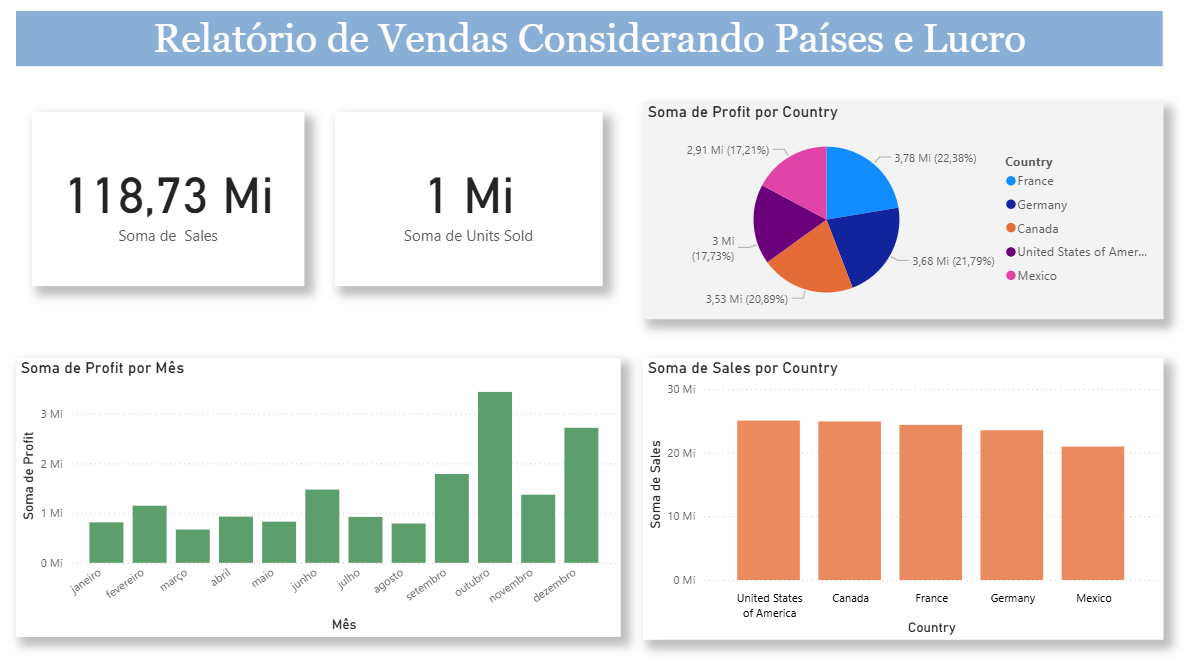

The page's visual inventory and layout, read from the dashboard file:
{"tool":"powerbi","page":{"name":"Página 2","canvas":[1280,720],"ordinal":1},"visuals":[{"type":"card","fields":{"Values":["Sum(financials. Sales)"]},"box":[36.9,128.4,291,185.8],"z":0},{"type":"textbox","box":[20.5,20.5,1225.4,58.7],"z":1000},{"type":"card","fields":{"Values":["Sum(financials.Units Sold)"]},"box":[360.6,128.4,285.5,185.8],"z":2000},{"type":"pieChart","fields":{"Category":["financials.Country"],"Y":["Sum(financials.Profit)"]},"box":[689.9,117.5,556,232.2],"z":3000},{"type":"clusteredColumnChart","fields":{"Category":["financials.Date.Variation.Hierarquia de datas.Ano","financials.Date.Variation.Hierarquia de datas.Mês"],"Y":["Sum(financials.Profit)"]},"box":[20.5,390.7,646.1,297.8],"z":4000},{"type":"clusteredColumnChart","fields":{"Category":["financials.Country"],"Y":["Sum(financials. Sales)"]},"box":[690,391.2,556.2,301.2],"z":5000}]}

Visuals, with their boxes in screenshot pixels (x1, y1, x2, y2), scaled from the page's 1280x720 canvas onto the 1192x663 screenshot:
card - Sum(financials. Sales): [left=34, top=118, right=305, bottom=289]
textbox: [left=19, top=19, right=1160, bottom=73]
card - Sum(financials.Units Sold): [left=336, top=118, right=602, bottom=289]
pieChart - financials.Country x Sum(financials.Profit): [left=642, top=108, right=1160, bottom=322]
clusteredColumnChart - financials.Date.Variation.Hierarquia de datas.Ano x financials.Date.Variation.Hierarquia de datas.Mês: [left=19, top=360, right=621, bottom=634]
clusteredColumnChart - financials.Country x Sum(financials. Sales): [left=643, top=360, right=1161, bottom=638]
